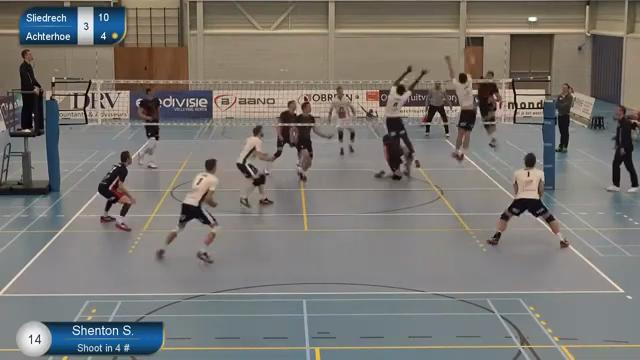Attack: (468, 55, 507, 152)
Block: (378, 60, 425, 174), (442, 45, 482, 168)
Player: (487, 153, 568, 247), (156, 159, 218, 263), (294, 102, 332, 180), (237, 125, 273, 207), (98, 151, 135, 230), (328, 86, 355, 155), (138, 88, 160, 168), (273, 100, 296, 158), (382, 134, 406, 179)
